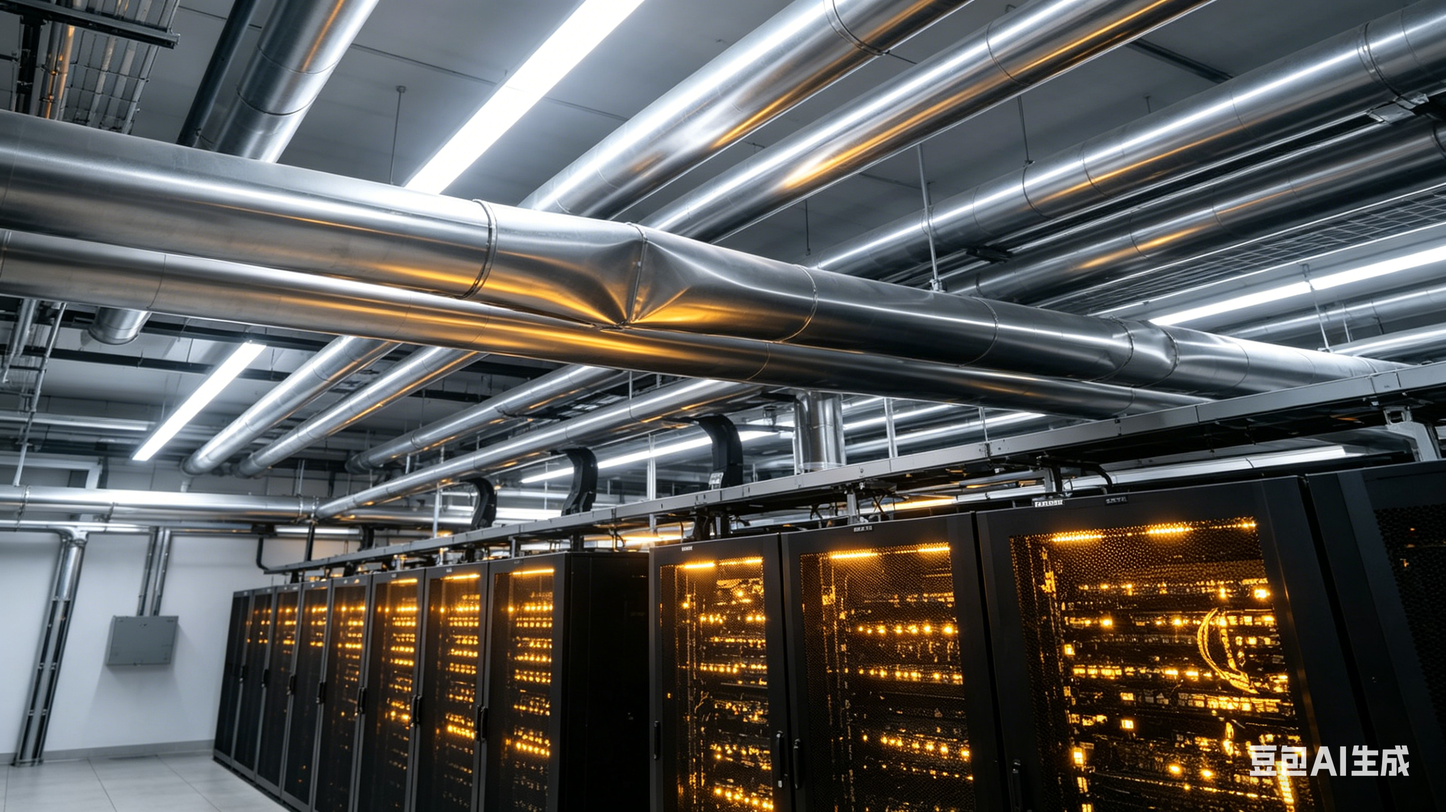Leakage: (570, 232, 701, 341)
